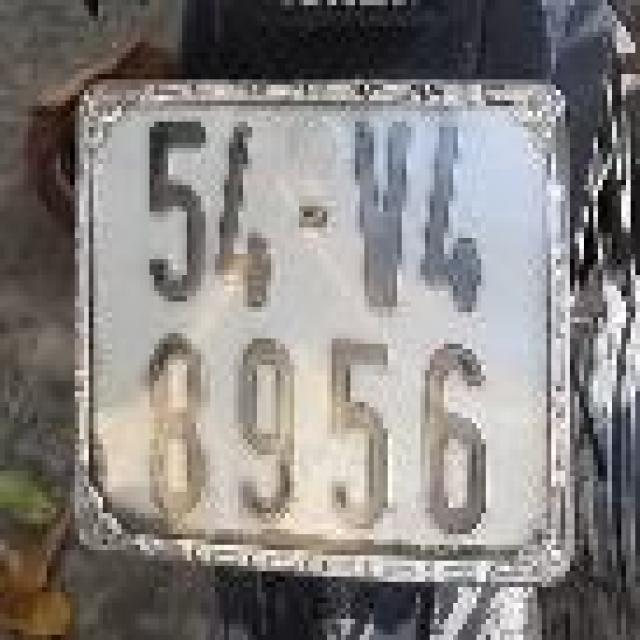4: (418, 111, 493, 333), (208, 119, 283, 315)
5: (124, 105, 212, 322), (320, 323, 395, 550)
6: (411, 341, 500, 542)
8: (126, 325, 210, 537)
9: (220, 328, 308, 529)
V: (341, 111, 416, 323)
